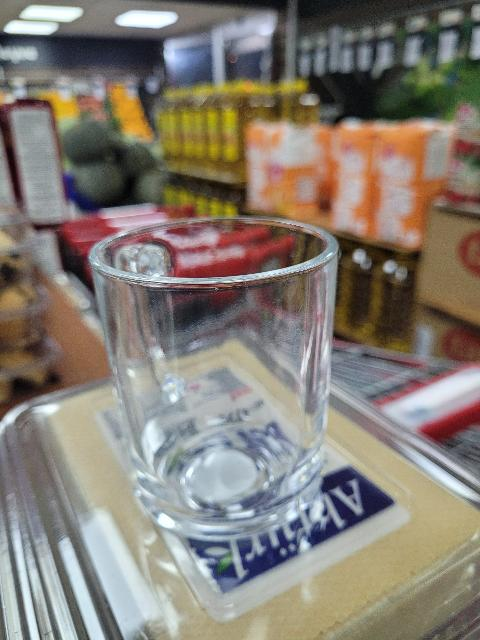Cam: (81, 213, 347, 549)
